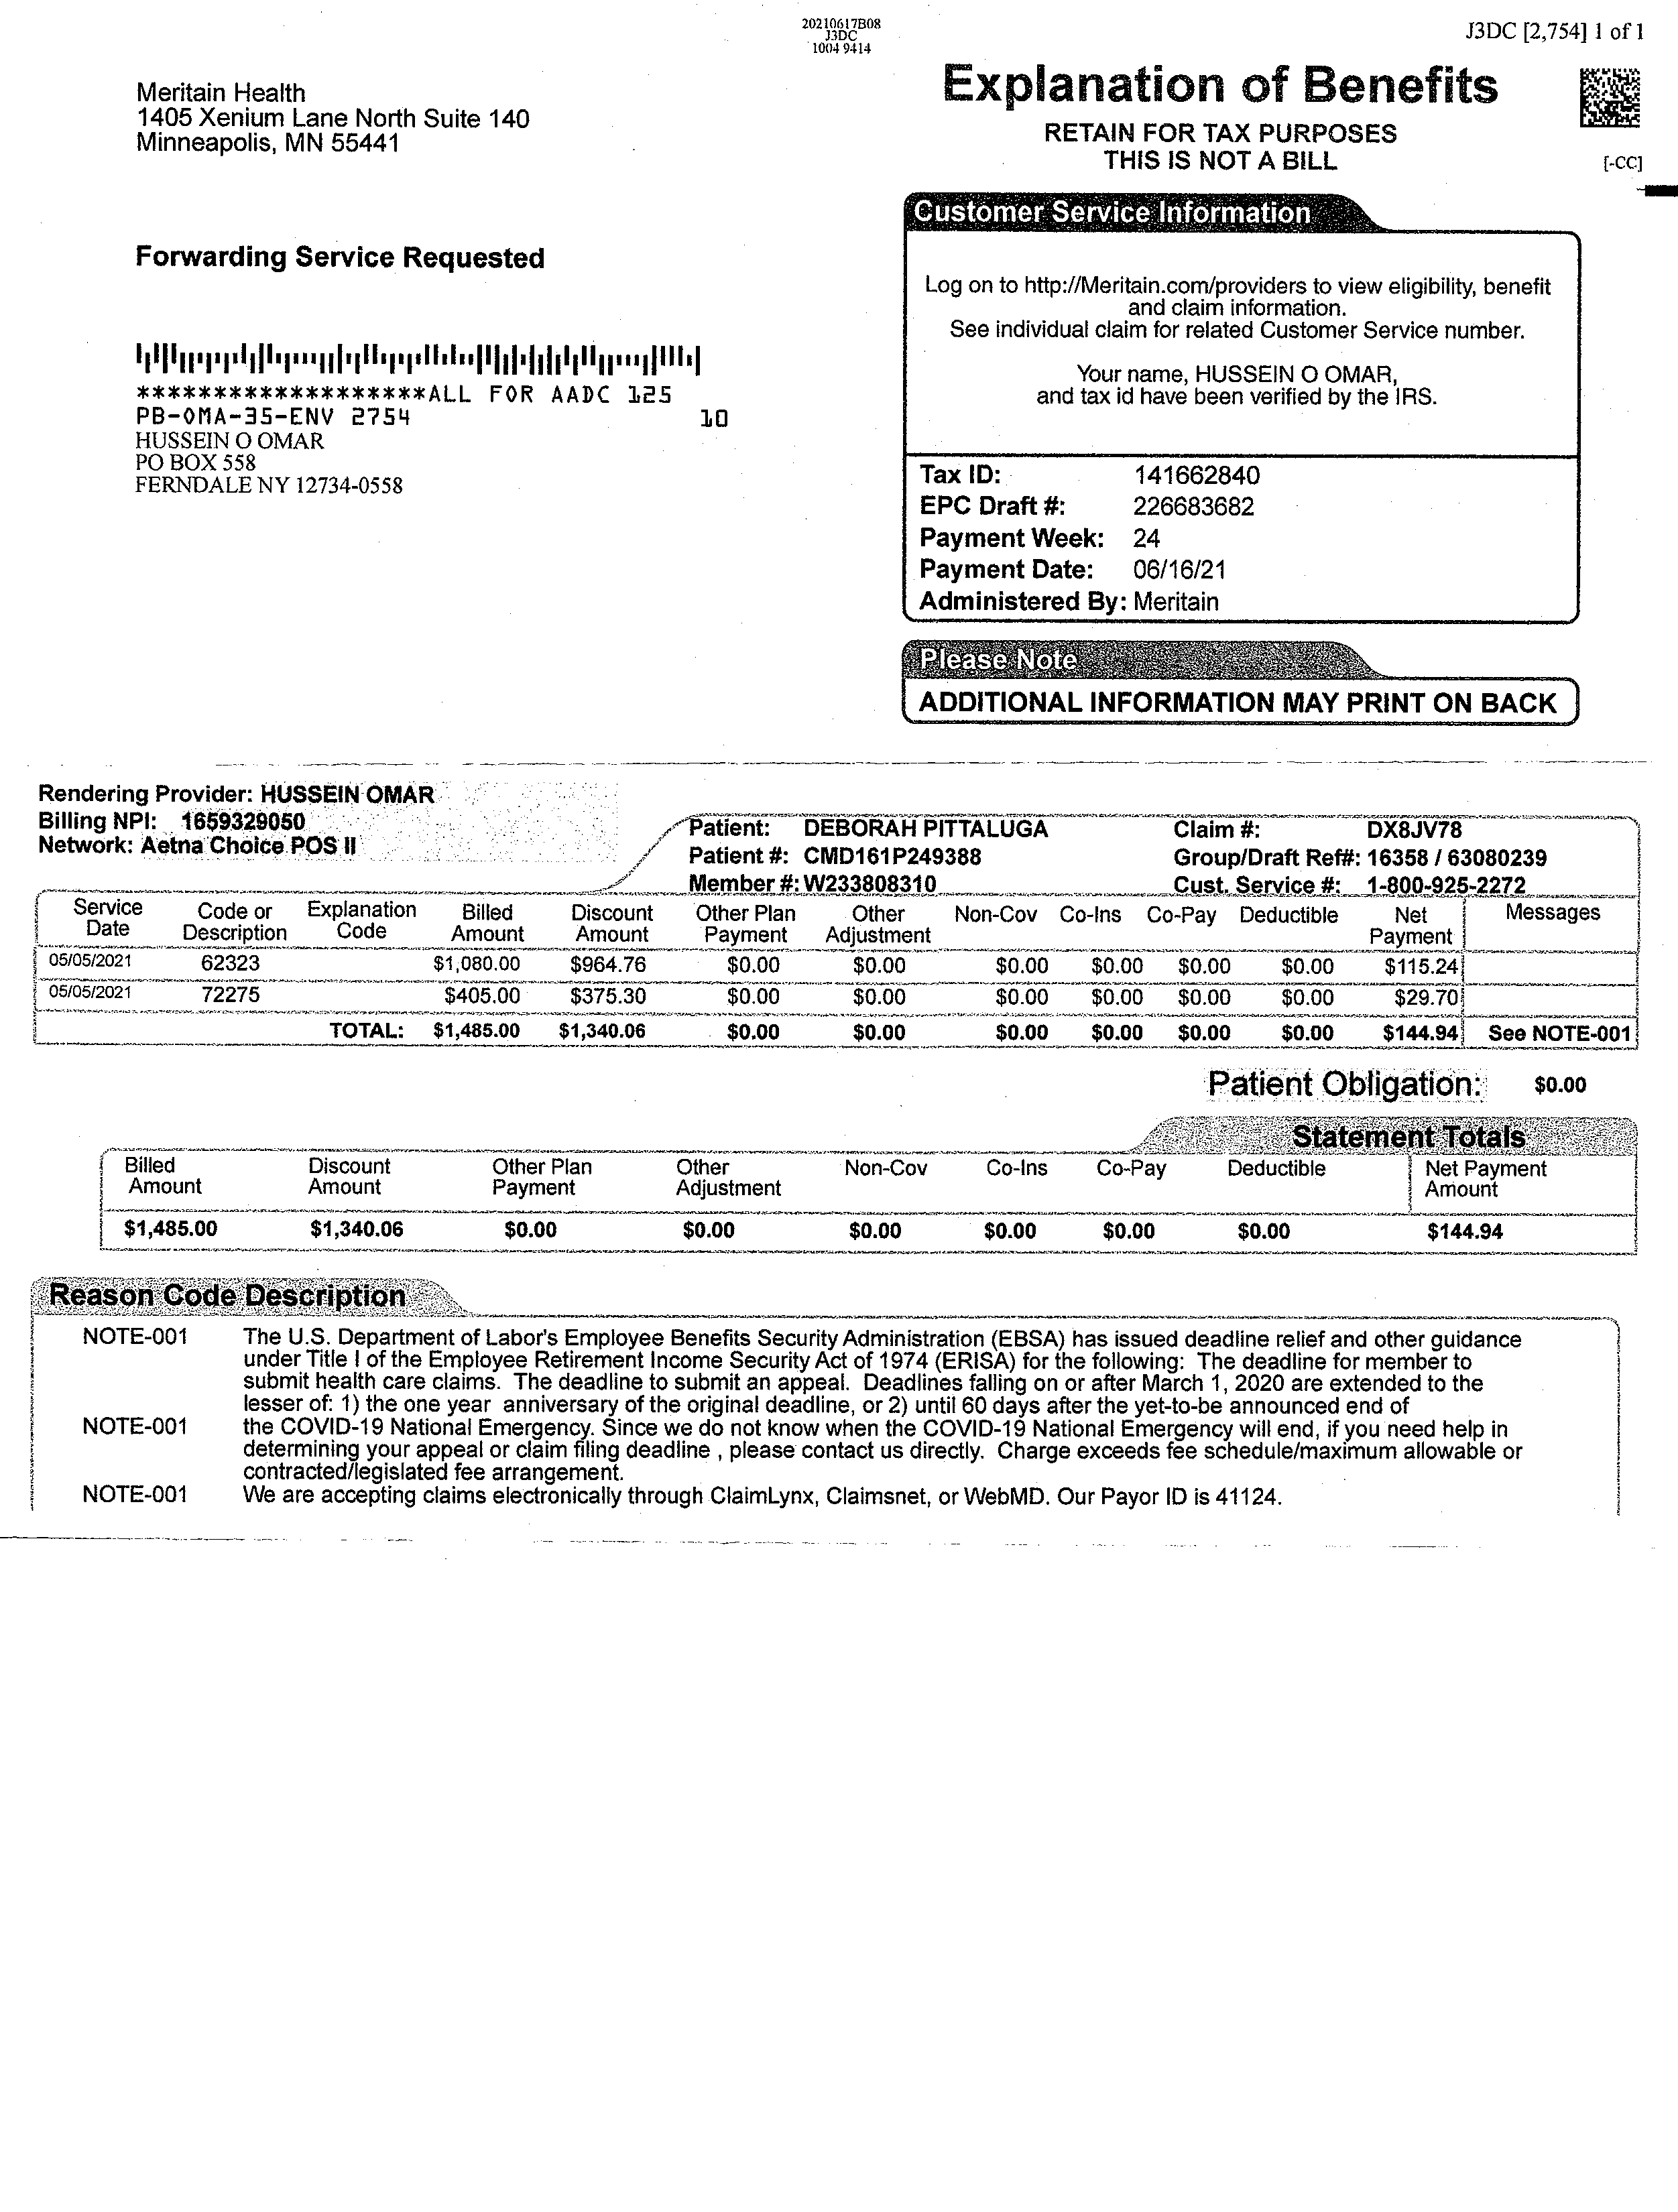data: (883, 176, 1609, 647), (21, 781, 476, 899), (677, 800, 1079, 899), (1170, 805, 1551, 901)
table: (30, 874, 1655, 1061), (81, 1128, 1657, 1274)
